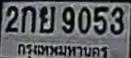0: (77, 6, 90, 33)
2: (5, 5, 17, 31)
3: (109, 6, 123, 34)
5: (94, 6, 108, 34)
9: (61, 6, 74, 32)
A01: (20, 5, 35, 32)
A34: (39, 5, 55, 32)
BKK: (15, 41, 110, 58)
